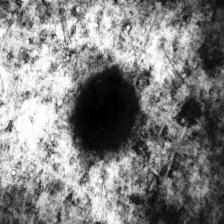Benign Marking or Mole: (70, 70, 138, 148)
